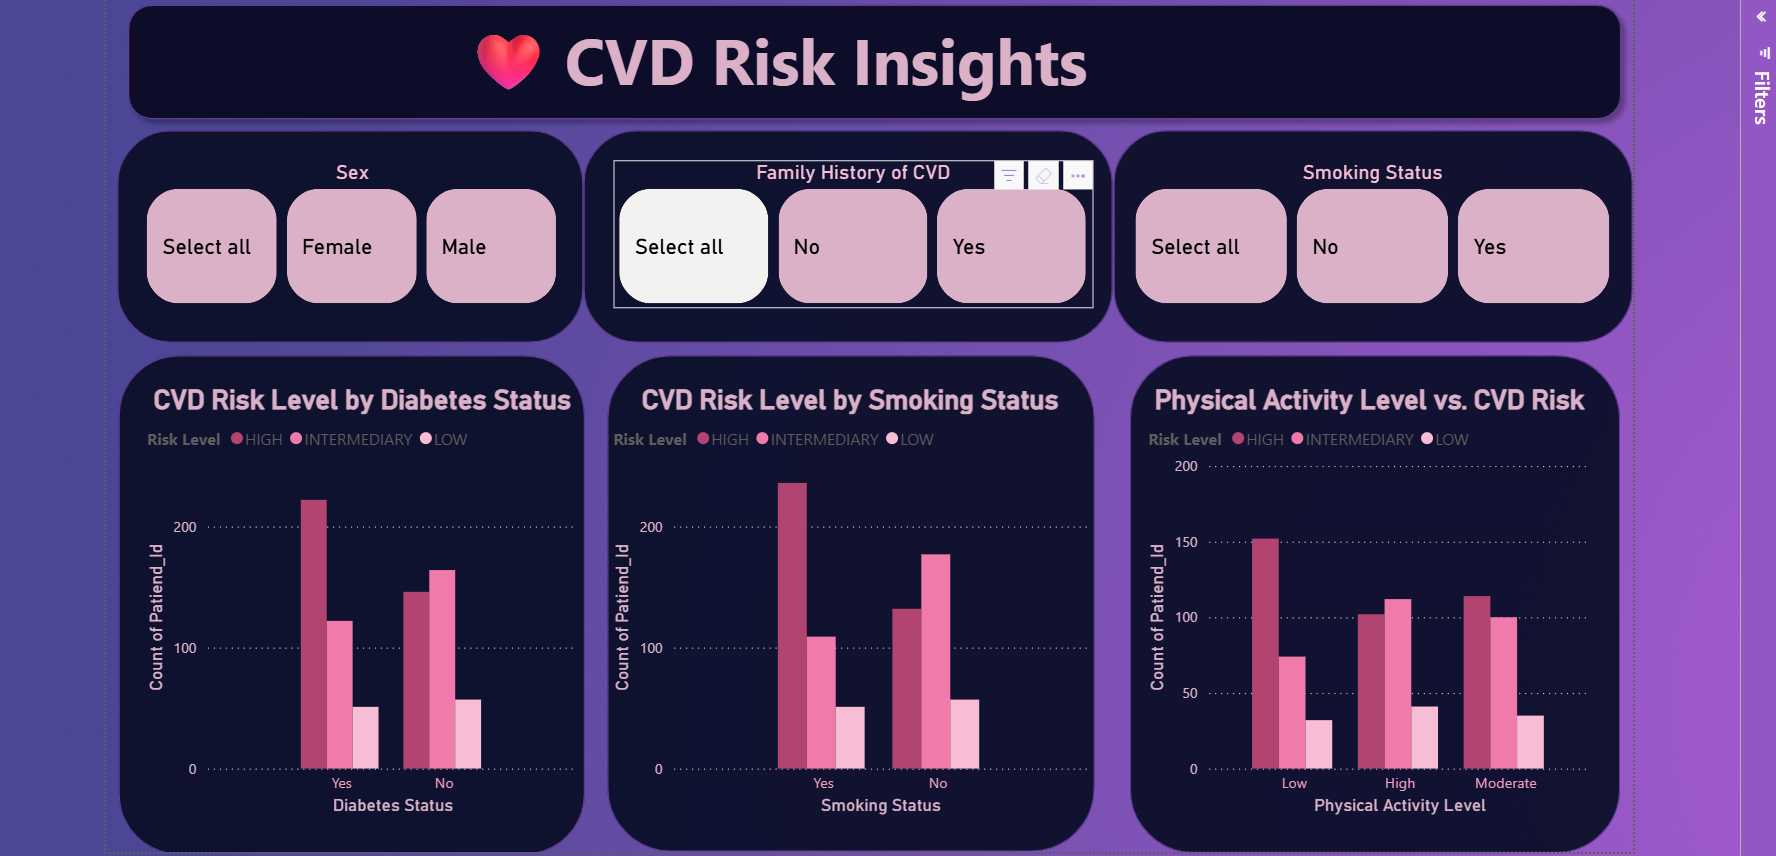

Layout of this report page (visuals, bound fields, positions):
{"tool":"powerbi","page":{"name":"CVD Risk Insights","canvas":[1280,720],"ordinal":1},"visuals":[{"type":"shape","box":[9.7,0,1270.3,114.1],"z":0},{"type":"shape","box":[858.8,302.5,411.2,417.5],"z":1000},{"type":"textbox","box":[44.5,13.9,1225.7,100.2],"z":2000},{"type":"shape","box":[420,302.5,408.8,416.2],"z":3000},{"type":"shape","box":[10,302.5,391.2,418.8],"z":4000},{"type":"shape","box":[844.5,114.1,435.5,178.1],"z":5000},{"type":"shape","box":[400.7,114.1,443.8,178.1],"z":6000},{"type":"shape","box":[9.7,114.1,391,178.1],"z":7000},{"type":"lineClusteredColumnComboChart","title":"CVD Risk Level by Smoking Status","fields":{"Category":["CVD Dataset.Smoking Status"],"Y":["CountNonNull(CVD Dataset.Patiend_Id)"],"Series":["CVD Dataset.CVD Risk Level"]},"box":[420.2,325.6,407.7,367.3],"z":8000},{"type":"clusteredColumnChart","title":"CVD Risk Level by Diabetes Status","fields":{"Category":["CVD Dataset.Diabetes Status"],"Series":["CVD Dataset.CVD Risk Level"],"Y":["CountNonNull(CVD Dataset.Patiend_Id)"]},"box":[29.2,325.6,371.5,367.3],"z":9000},{"type":"clusteredColumnChart","title":" Physical Activity Level vs. CVD Risk","fields":{"Category":["CVD Dataset.Physical Activity Level"],"Y":["CountNonNull(CVD Dataset.Patiend_Id)"],"Series":["CVD Dataset.CVD Risk Level"]},"box":[869.6,325.6,381.2,367.3],"z":10000},{"type":"advancedSlicerVisual","fields":{"Values":["CVD Dataset.Sex"]},"box":[29.2,139.1,354.8,125.2],"z":11000},{"type":"advancedSlicerVisual","fields":{"Values":["CVD Dataset.Family History of CVD"]},"box":[425.7,139.1,402.1,125.2],"z":12000},{"type":"advancedSlicerVisual","fields":{"Values":["CVD Dataset.Smoking Status"]},"box":[858.4,139.1,407.7,125.2],"z":13000},{"type":"actionButton","box":[272.4,13.7,129.4,79.6],"z":14000}]}

Visuals, with their boxes on the page's 1280x720 design canvas (x1, y1, x2, y2). These are canvas units, not pixel positions in the 1776x856 screenshot, which may show the page scaled, cropped or inside an application window:
shape: box=[10, 0, 1280, 114]
shape: box=[859, 302, 1270, 720]
textbox: box=[44, 14, 1270, 114]
shape: box=[420, 302, 829, 719]
shape: box=[10, 302, 401, 721]
shape: box=[844, 114, 1280, 292]
shape: box=[401, 114, 844, 292]
shape: box=[10, 114, 401, 292]
"CVD Risk Level by Smoking Status" lineClusteredColumnComboChart: box=[420, 326, 828, 693]
"CVD Risk Level by Diabetes Status" clusteredColumnChart: box=[29, 326, 401, 693]
" Physical Activity Level vs. CVD Risk" clusteredColumnChart: box=[870, 326, 1251, 693]
advancedSlicerVisual - CVD Dataset.Sex: box=[29, 139, 384, 264]
advancedSlicerVisual - CVD Dataset.Family History of CVD: box=[426, 139, 828, 264]
advancedSlicerVisual - CVD Dataset.Smoking Status: box=[858, 139, 1266, 264]
actionButton: box=[272, 14, 402, 93]
